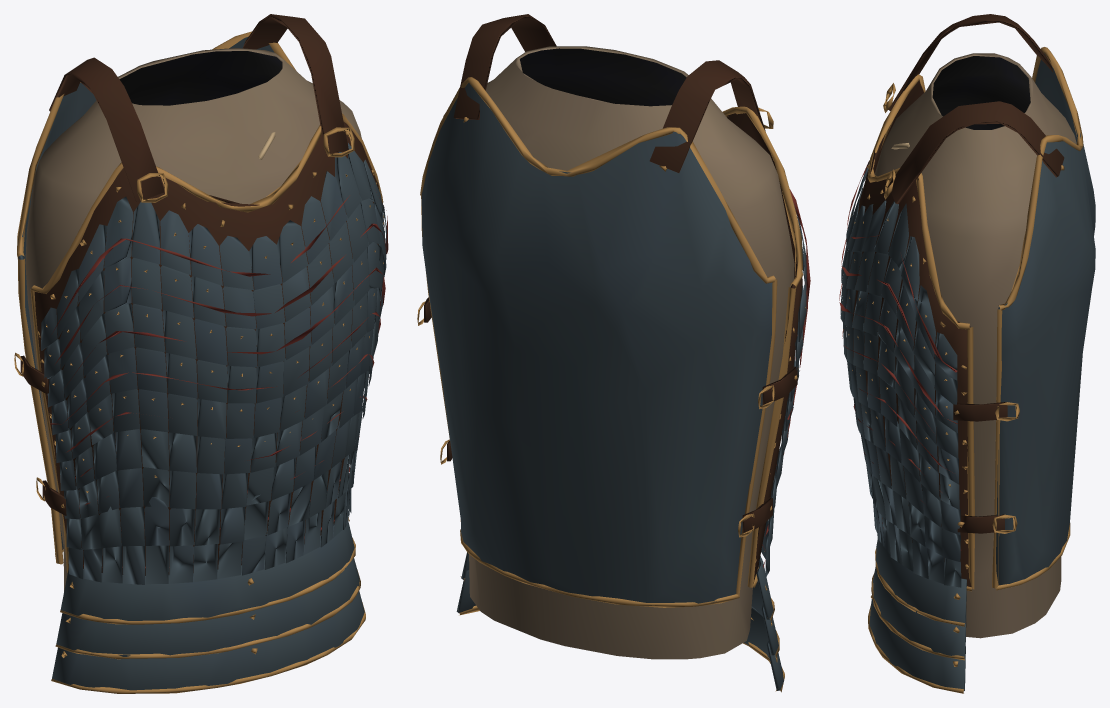
3 views of the same model, side by side, from view 1: azimuth 30°, elevation 25°; view 2: azimuth 150°, elevation 25°; view 3: azimuth 270°, elevation 25° (orthographic). The views are drawn at different scales.
Parts seen in each view (by area): view 1: aged alloy edge, quilted linen lining; view 2: aged alloy edge, quilted linen lining; view 3: aged alloy edge, quilted linen lining.
Part boxes in pixels (<box>): aged alloy edge: <box>14,31,387,693</box>; quilted linen lining: <box>20,14,388,591</box>; aged alloy edge: <box>417,77,806,692</box>; quilted linen lining: <box>424,14,810,659</box>; aged alloy edge: <box>840,47,1095,693</box>; quilted linen lining: <box>839,14,1076,638</box>.
Bounding box in the file's own units: 0.3921 × 0.6459 × 0.2664.
